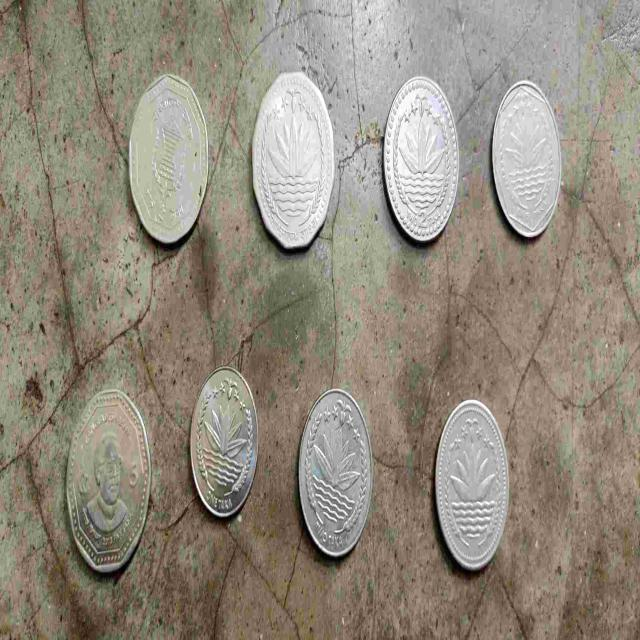1_taka: (408, 360, 541, 609), (489, 67, 578, 278), (184, 360, 268, 540)
2_taka: (288, 360, 384, 589), (375, 74, 473, 264)
5_taka: (51, 360, 168, 593), (240, 59, 344, 278), (118, 58, 220, 269)
